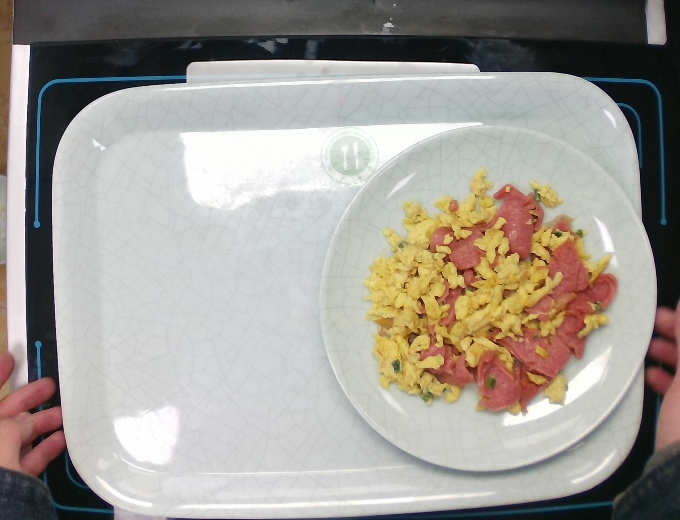JYsf-Da_Yuan_Pan: (317, 120, 658, 470)
